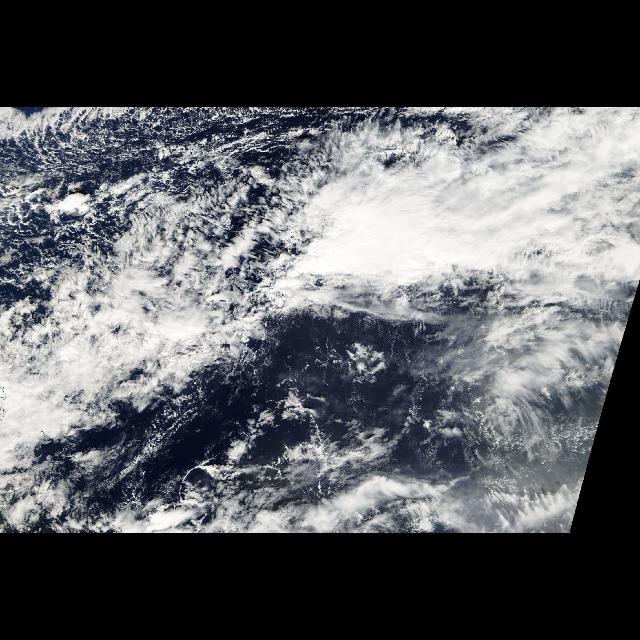Fish: (15, 132, 640, 478)
Gravel: (23, 131, 273, 191)
